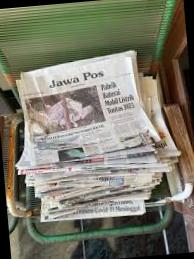Kertas: (16, 55, 144, 164)
